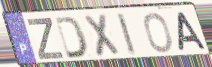A: (175, 11, 208, 52)
D: (53, 16, 90, 60)
I: (115, 12, 139, 58)
O: (143, 12, 174, 54)
X: (82, 12, 122, 59)
Z: (25, 18, 66, 62)
